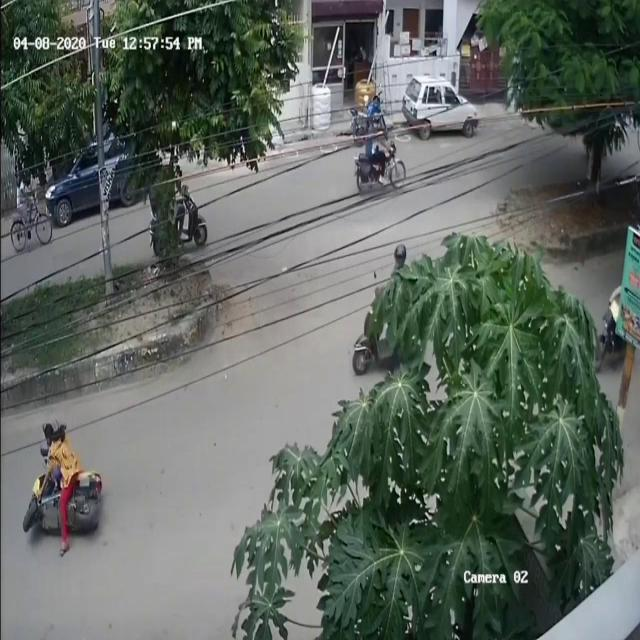accident: (19, 412, 110, 556)
